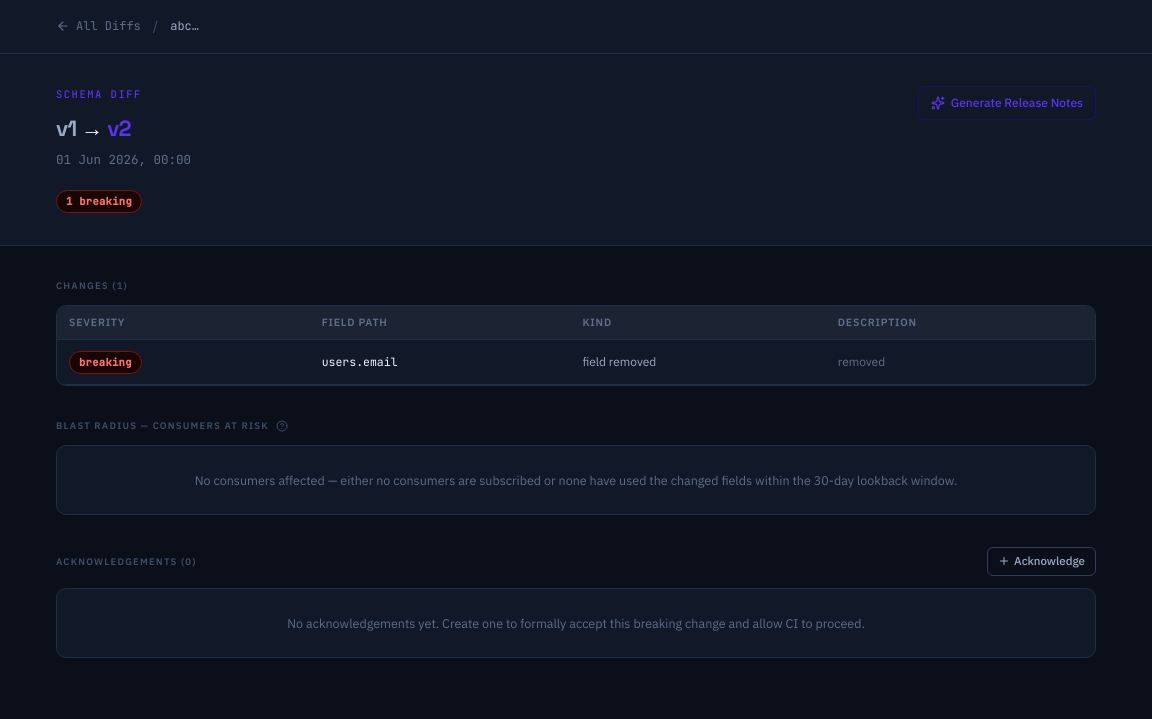
DiffDetailPage release-note generation › polls generate-status and renders the completed note content
The image size is (1152, 719).
Click the button "Generate Release Notes". click: (1007, 103)
box: [918,86,1096,120]
(page scrolled)
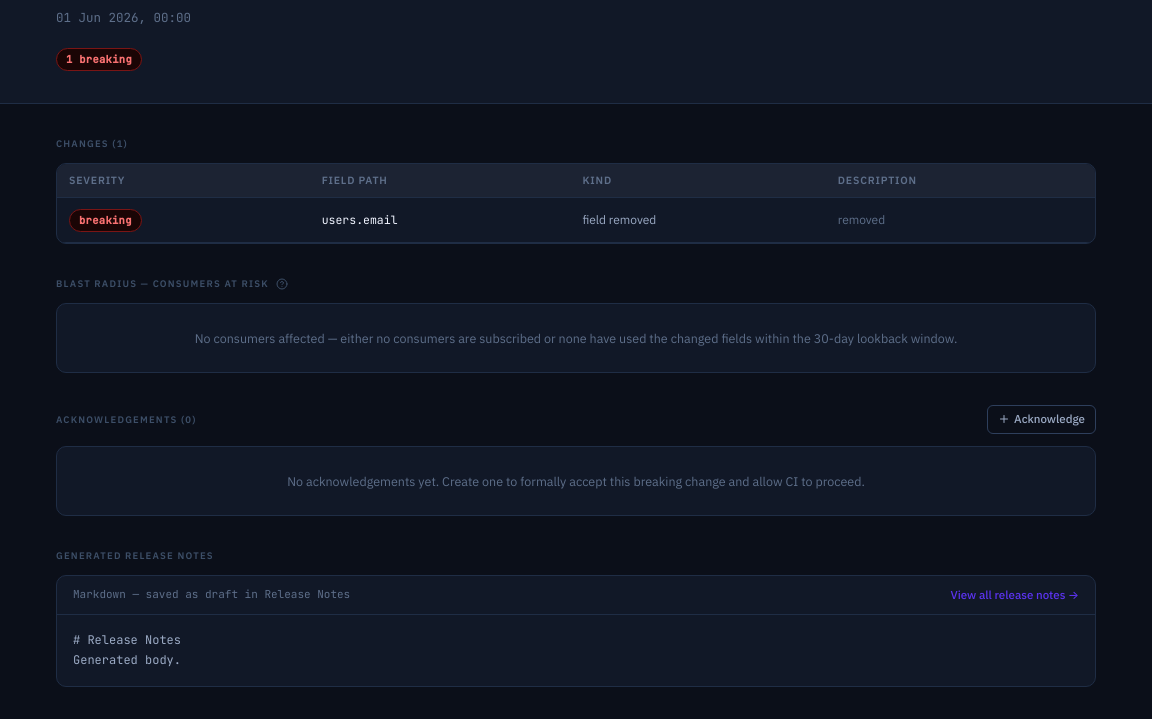
Check: the text "# Release Notes Generated body." is shown, box [73,632,181,668]
